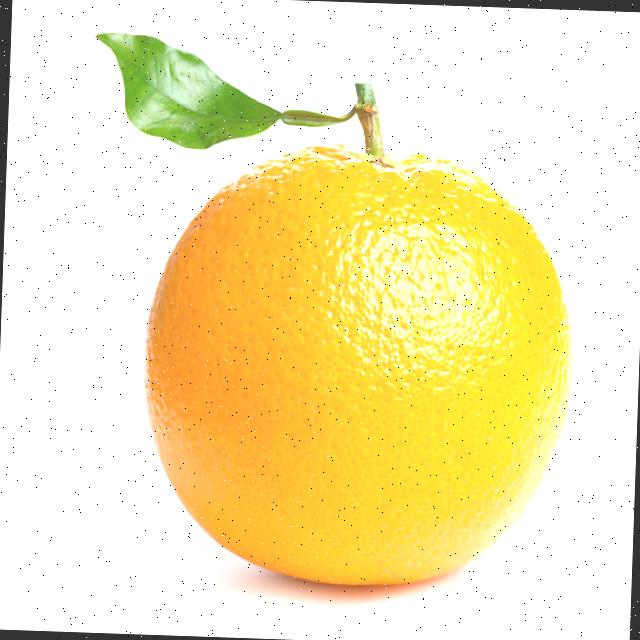orange: (130, 135, 583, 594)
